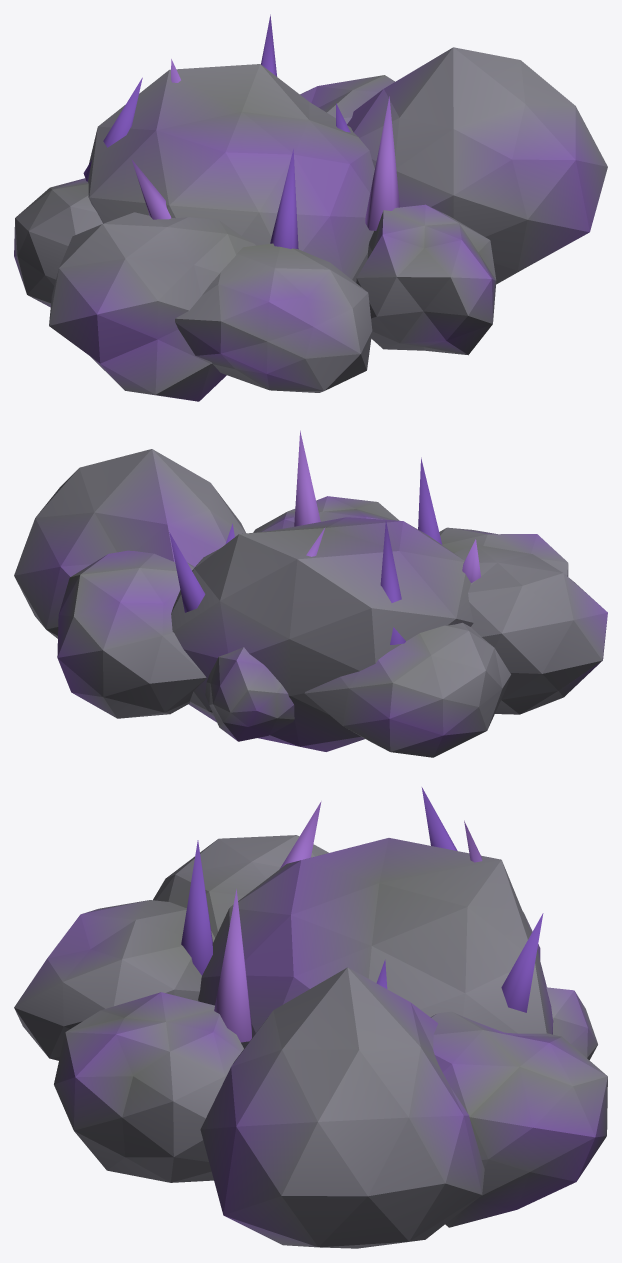
The model's file is deposit_gems.glb.
3 renders of one model, top to bottom at view 1: azimuth 30°, elevation 25°; view 2: azimuth 150°, elevation 25°; view 3: azimuth 270°, elevation 25°, orthographic. The views are drawn at different scales.
Parts seen in each view (by area): view 1: part_0; view 2: part_0; view 3: part_0.
Boxes of the visible parts, x1,y1,x2,y2 form: part_0: [14, 14, 607, 401]; part_0: [14, 430, 607, 757]; part_0: [14, 787, 607, 1248].
Size of the model in its own units: 5.36 by 2.52 by 4.08.
